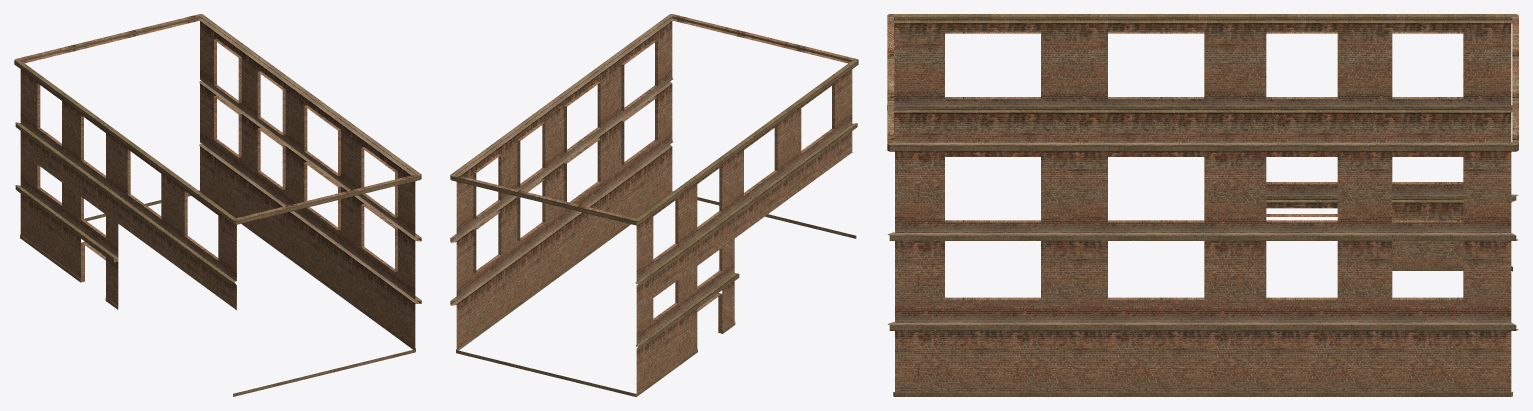
Rendered from brick_wall_bricksmallbrown_dm_0_lev1.glb.
3 renders of one model, left to right at view 1: azimuth 30°, elevation 25°; view 2: azimuth 150°, elevation 25°; view 3: azimuth 270°, elevation 25°, orthographic. The views are drawn at different scales.
Parts seen in each view (by area): view 1: brick_wall_bricksmallbrown_dm_0_lev1; view 2: brick_wall_bricksmallbrown_dm_0_lev1; view 3: brick_wall_bricksmallbrown_dm_0_lev1.
Boxes of the visible parts, x1,y1,x2,y2 form: brick_wall_bricksmallbrown_dm_0_lev1: (14,14,421,396); brick_wall_bricksmallbrown_dm_0_lev1: (450,14,858,396); brick_wall_bricksmallbrown_dm_0_lev1: (887,14,1518,396).
Bounding box in the file's own units: 6.74 × 6.07 × 13.68.
1 material, 1 textured.
